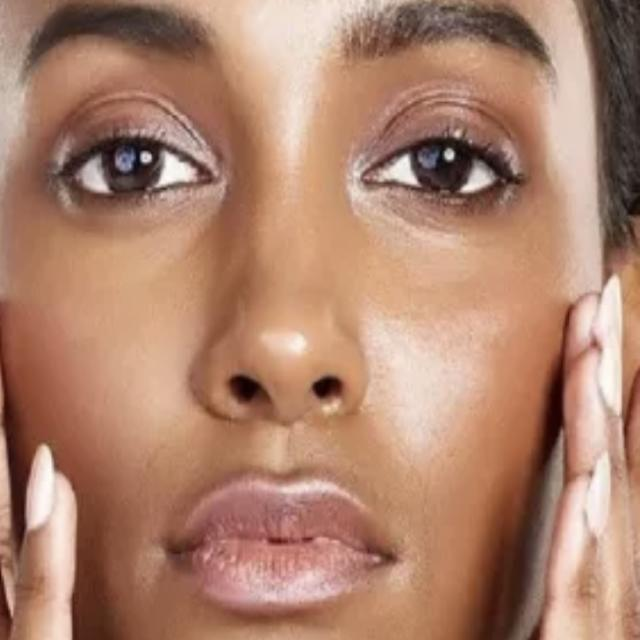Oily-Skin: (234, 20, 318, 378), (375, 265, 515, 474), (163, 508, 374, 640), (41, 227, 152, 458)
